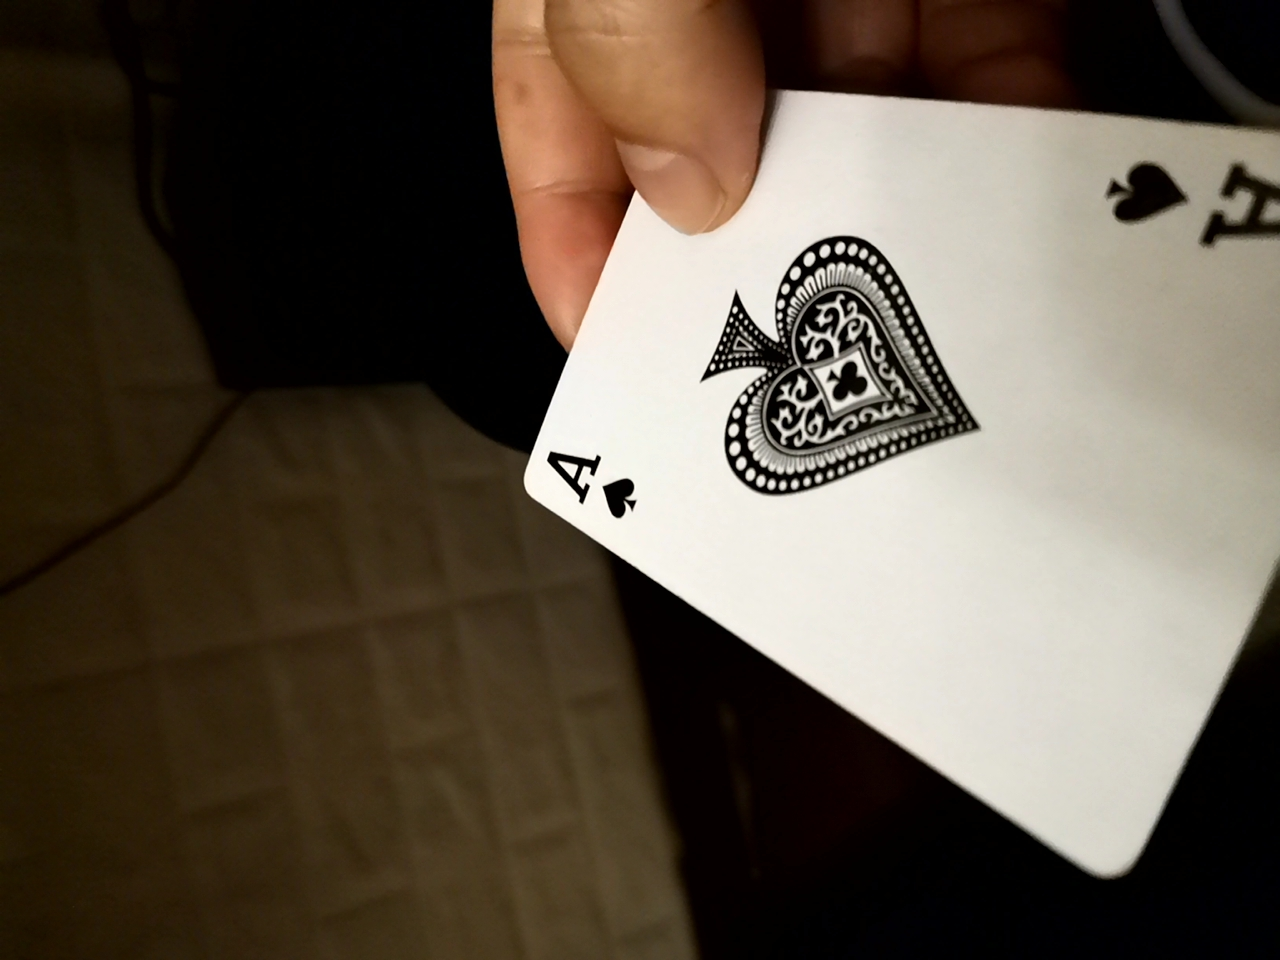ht a: (486, 82, 1247, 892)
